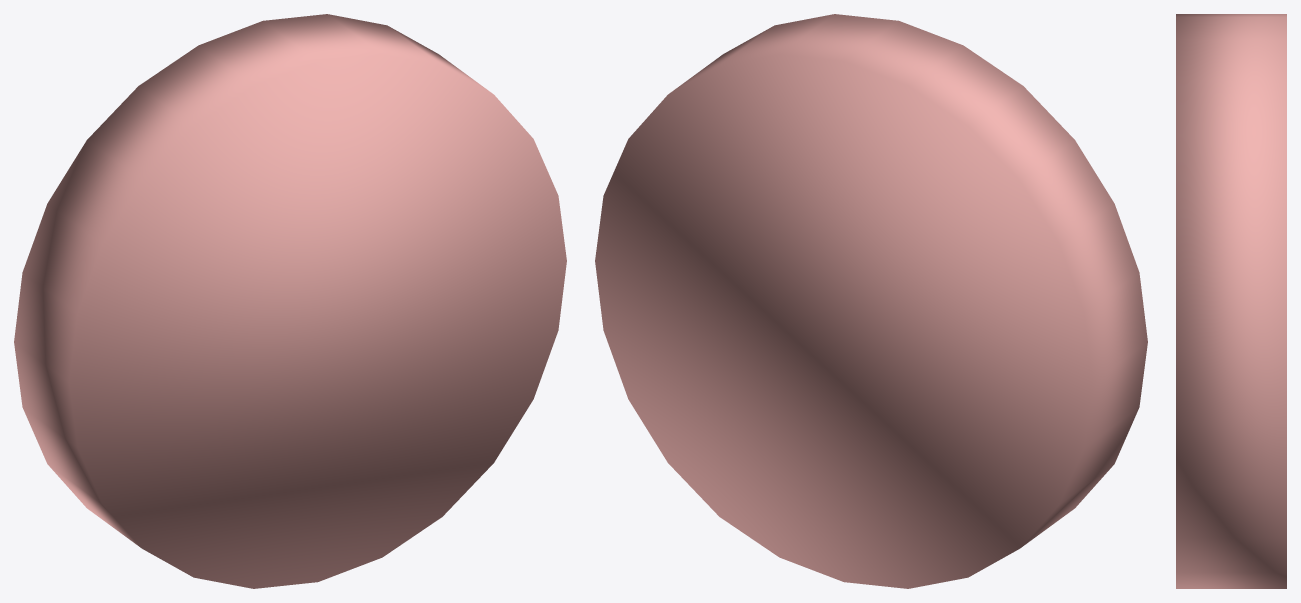
Rendered from shape-circle-pink.glb.
The picture shows the model from 3 angles, left to right: view 1: azimuth 30°, elevation 25°; view 2: azimuth 150°, elevation 25°; view 3: azimuth 270°, elevation 25°; orthographic projection.
Visible parts, largest first — view 1: solid circle; view 2: solid circle; view 3: solid circle.
Boxes of the visible parts, left/top/right/bottom form: solid circle: left=14, top=14, right=566, bottom=588; solid circle: left=595, top=14, right=1147, bottom=588; solid circle: left=1176, top=14, right=1286, bottom=588.
Size of the model in its own units: 1.3 by 1.3 by 0.25.
